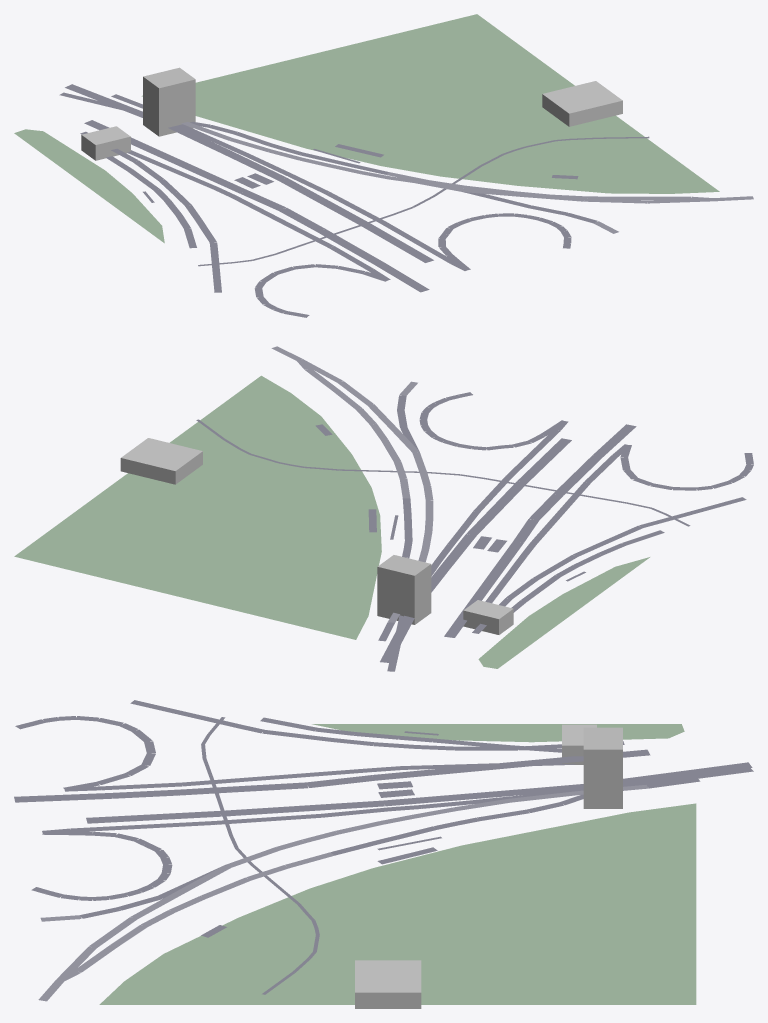
Rendered from 128_80_mid.glb.
The picture shows the model from 3 angles, top to bottom: view 1: azimuth 30°, elevation 25°; view 2: azimuth 150°, elevation 25°; view 3: azimuth 270°, elevation 25°; orthographic projection. The views are drawn at different scales.
Bounding box in the file's own units: 536 × 49.39 × 556.
